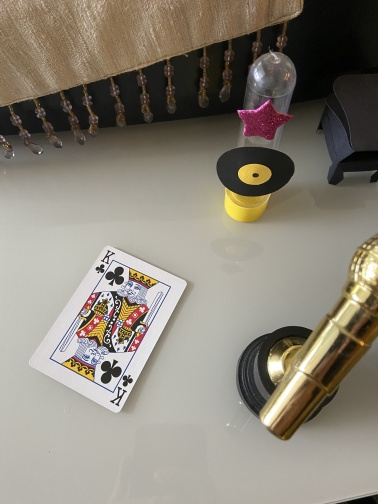king: (27, 243, 189, 415)
